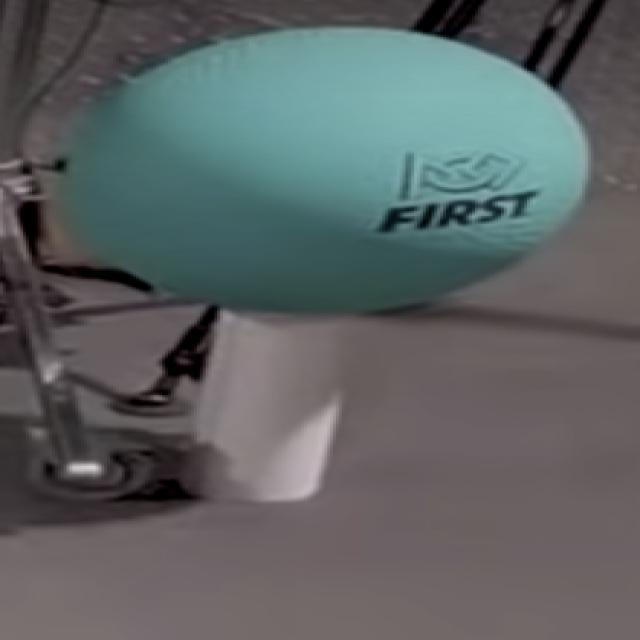Algae: (66, 27, 594, 314)
Coral: (180, 316, 353, 502)
